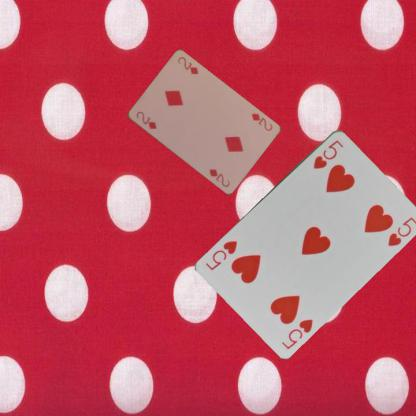2d: (248, 110, 274, 132), (133, 108, 158, 130)
5h: (279, 316, 314, 350), (311, 136, 345, 170)
